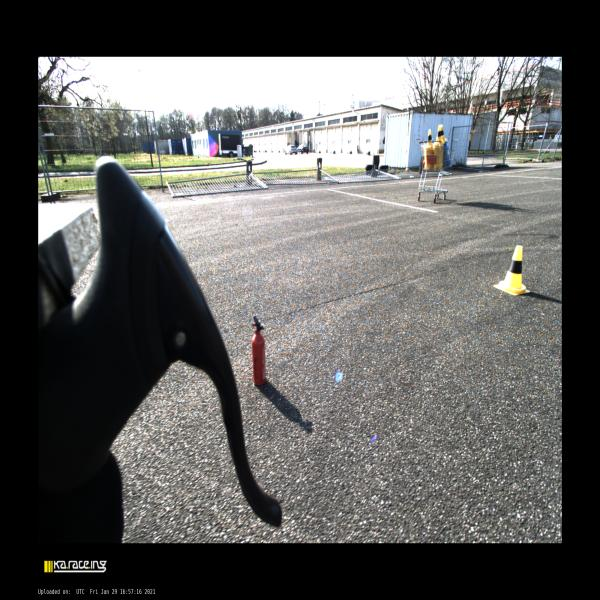yellow_cone: (493, 244, 530, 297), (435, 124, 443, 144), (426, 128, 433, 146), (440, 124, 446, 141)
